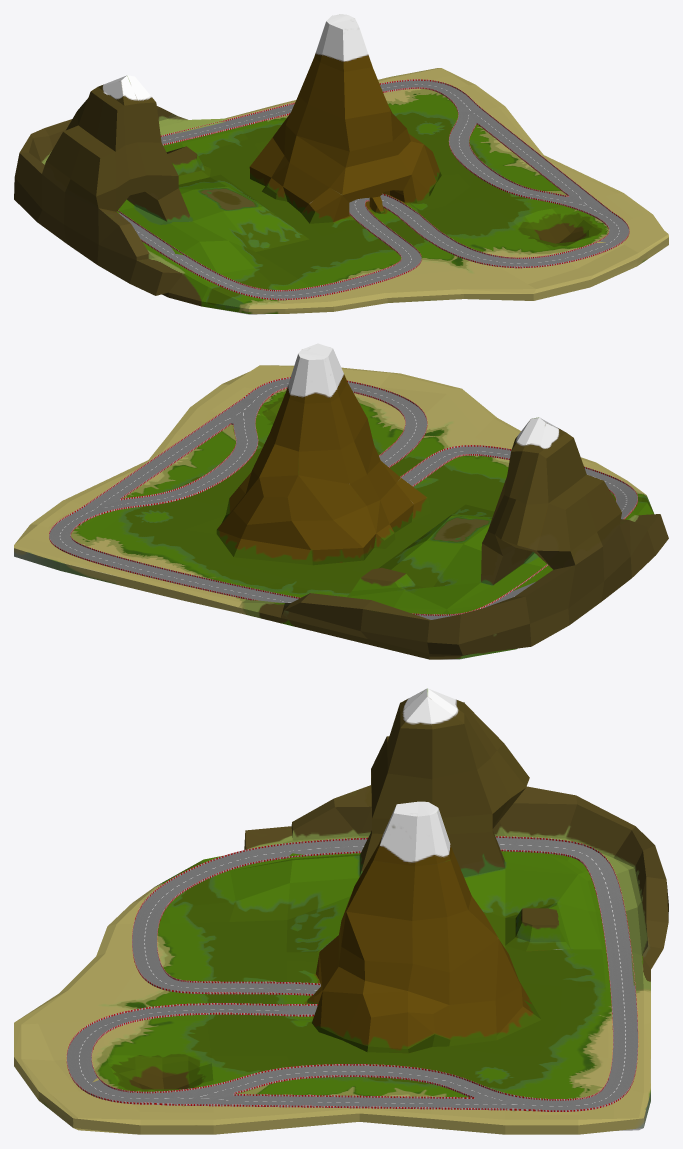
Rendered from mapaPirata.obj.
3 renders of one model, top to bottom at view 1: azimuth 30°, elevation 25°; view 2: azimuth 150°, elevation 25°; view 3: azimuth 270°, elevation 25°, orthographic. The views are drawn at different scales.
Parts seen in each view (by area): view 1: montana_montanaH, carretera_carreteraH; view 2: montana_montanaH, carretera_carreteraH; view 3: montana_montanaH, carretera_carreteraH.
Boxes of the visible parts, x1,y1,x2,y2 form: montana_montanaH: (14,14,668,314); carretera_carreteraH: (117,79,629,300); montana_montanaH: (14,343,668,659); carretera_carreteraH: (49,377,637,619); montana_montanaH: (14,688,668,1134); carretera_carreteraH: (66,836,638,1111).
Bounding box in the file's own units: 1684 × 598 × 1642.
Materials: 2 (2 with a texture image).
